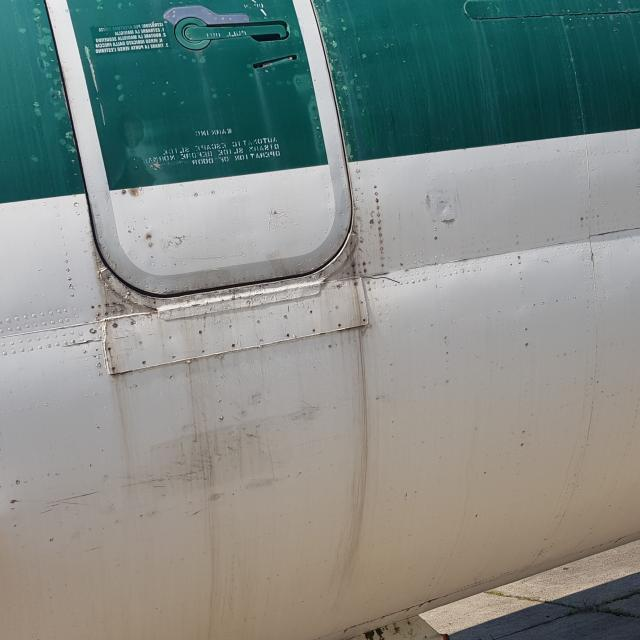crack: (360, 271, 406, 289)
